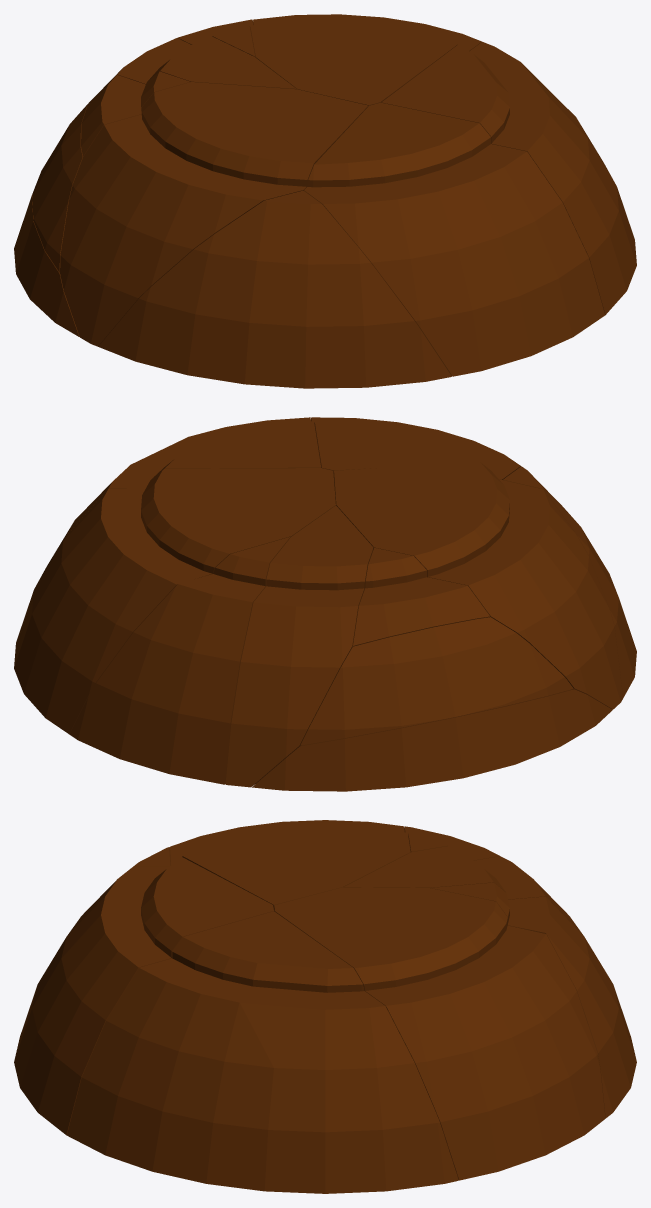
File: cookie_kaputt.glb
3 views of the same model, one above another, from view 1: azimuth 30°, elevation 25°; view 2: azimuth 150°, elevation 25°; view 3: azimuth 270°, elevation 25° (orthographic).
Parts seen in each view (by area): view 1: Sphere_cell.003, Sphere_cell.008, Sphere_cell.002, Sphere_cell, Sphere_cell.006, Sphere_cell.001, Sphere_cell.004, Sphere_cell.007, Sphere_cell.009, Sphere_cell.005; view 2: Sphere_cell.006, Sphere_cell.002, Sphere_cell.005, Sphere_cell.001, Sphere_cell.004, Sphere_cell.007, Sphere_cell, Sphere_cell.003, Sphere_cell.009, Sphere_cell.008; view 3: Sphere_cell, Sphere_cell.006, Sphere_cell.003, Sphere_cell.002, Sphere_cell.005, Sphere_cell.001, Sphere_cell.009.
Boxes of the visible parts, x1,y1,x2,y2 form: Sphere_cell.003: [304, 102, 605, 376]; Sphere_cell.008: [98, 190, 451, 388]; Sphere_cell.002: [60, 82, 368, 346]; Sphere_cell: [381, 41, 636, 314]; Sphere_cell.006: [250, 14, 481, 105]; Sphere_cell.001: [91, 36, 296, 100]; Sphere_cell.004: [32, 96, 95, 272]; Sphere_cell.007: [14, 195, 79, 336]; Sphere_cell.009: [81, 71, 190, 156]; Sphere_cell.005: [177, 19, 255, 57]; Sphere_cell.006: [14, 468, 335, 734]; Sphere_cell.002: [333, 462, 623, 709]; Sphere_cell.005: [69, 536, 290, 784]; Sphere_cell.001: [225, 505, 373, 787]; Sphere_cell.004: [300, 617, 573, 745]; Sphere_cell.007: [252, 689, 612, 791]; Sphere_cell: [15, 417, 321, 648]; Sphere_cell.003: [311, 417, 520, 479]; Sphere_cell.009: [353, 548, 489, 646]; Sphere_cell.008: [503, 466, 636, 697]; Sphere_cell: [66, 911, 458, 1193]; Sphere_cell.006: [274, 887, 605, 1180]; Sphere_cell.003: [14, 857, 274, 1135]; Sphere_cell.002: [170, 820, 410, 911]; Sphere_cell.005: [430, 882, 636, 1118]; Sphere_cell.001: [344, 846, 584, 936]; Sphere_cell.009: [404, 826, 499, 860].
Size of the model in its own units: 1.96 by 0.5758 by 1.96.
